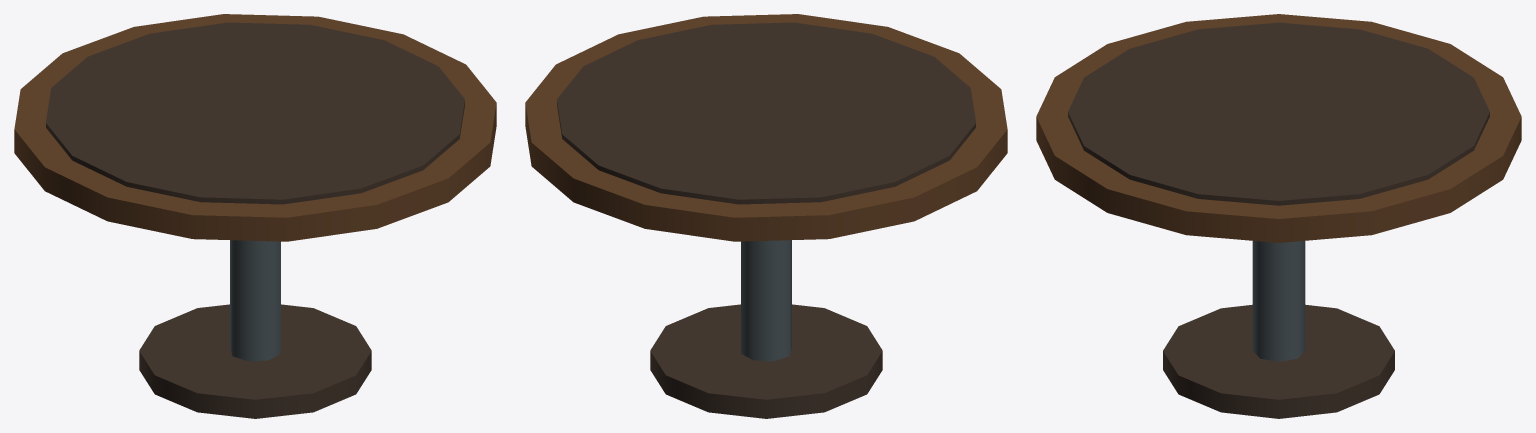
File: cantina_table_round.glb
3 views of the same model, side by side, from view 1: azimuth 30°, elevation 25°; view 2: azimuth 150°, elevation 25°; view 3: azimuth 270°, elevation 25° (orthographic).
Visible parts, largest first — view 1: sw5e_int_cantina_table_round; view 2: sw5e_int_cantina_table_round; view 3: sw5e_int_cantina_table_round.
Boxes of the visible parts, bbox=[...] form: sw5e_int_cantina_table_round: bbox=[14, 14, 496, 418]; sw5e_int_cantina_table_round: bbox=[525, 14, 1007, 418]; sw5e_int_cantina_table_round: bbox=[1036, 14, 1521, 418].
Size of the model in its own units: 0.92 by 0.54 by 0.92.
